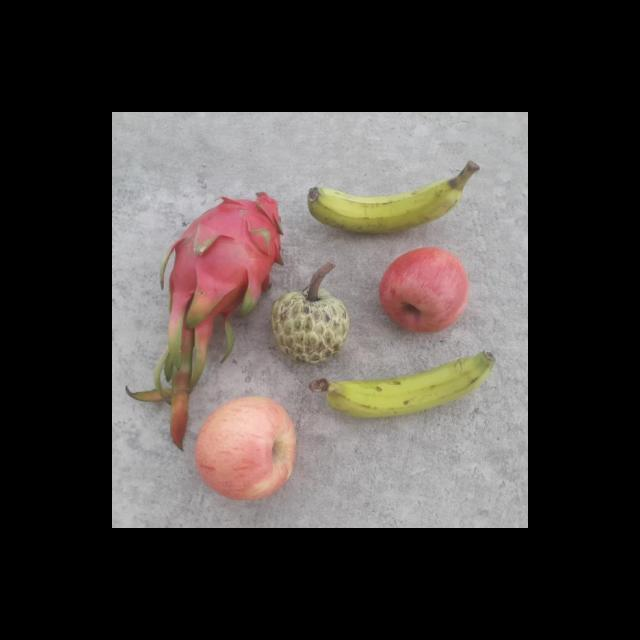Sakya fruit: (270, 285, 350, 367)
apple: (193, 395, 299, 503), (378, 245, 473, 340)
banana: (307, 159, 484, 238), (326, 352, 504, 417)
pitaya: (162, 192, 284, 316)
